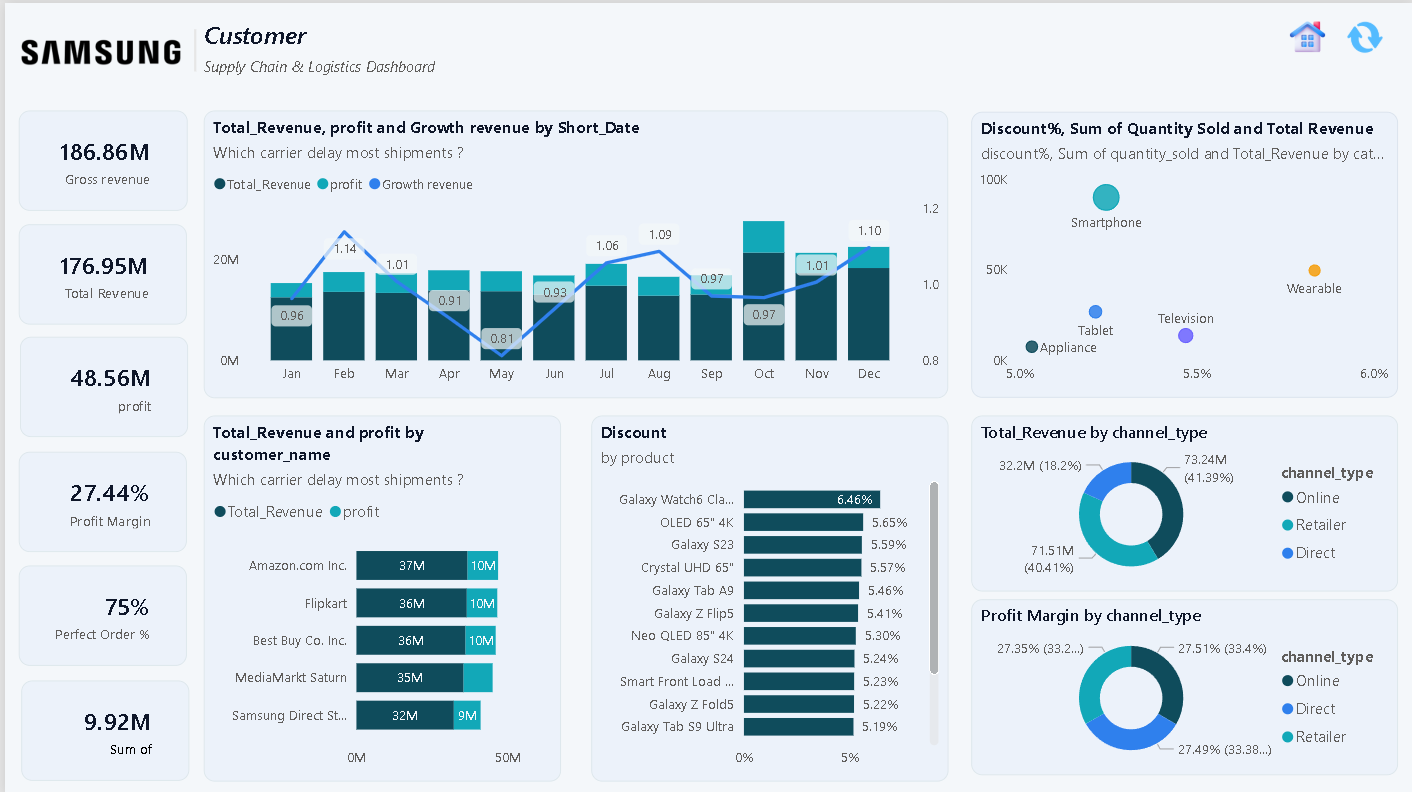

Layout of this report page (visuals, bound fields, positions):
{"tool":"powerbi","page":{"name":"Customer","canvas":[1280,720],"ordinal":5},"visuals":[{"type":"shape","title":"Customer","box":[180.2,14,220.9,57],"z":0},{"type":"shape","box":[164,24.4,18.6,38.4],"z":1000},{"type":"image","box":[3.5,20.9,160.5,47.7],"z":2000},{"type":"cardVisual","fields":{"Data":["MeasuresTable.Total_Revenue"]},"box":[12.2,201.2,152.4,91.5],"z":3000},{"type":"cardVisual","fields":{"Data":["MeasuresTable.profit"]},"box":[13.7,303.9,153,91],"z":4000},{"type":"cardVisual","fields":{"Data":["MeasuresTable.Profit Margin"]},"box":[12.8,408.3,153,91.5],"z":5000},{"type":"cardVisual","fields":{"Data":["MeasuresTable.Perfect_Order %"]},"box":[12,511.5,153,91],"z":6000},{"type":"cardVisual","fields":{"Data":["Sum(fact_sales.gross_revenue)"]},"box":[12.2,97.6,153.7,91.5],"z":7000},{"type":"cardVisual","fields":{"Data":["Sum(fact_sales.discount_amount)"]},"box":[14.6,615.9,152.4,91.5],"z":8000},{"type":"donutChart","fields":{"Category":["dim_customer.channel_type"],"Y":["MeasuresTable.Total_Revenue"]},"box":[879,375,388.1,160],"z":9000},{"type":"barChart","fields":{"Category":["dim_customer.customer_name"],"Y":["MeasuresTable.Total_Revenue","MeasuresTable.profit"]},"box":[180.3,375,325,333.2],"z":10000},{"type":"lineStackedColumnComboChart","fields":{"Category":["dim_date.Short_Date"],"Y":["MeasuresTable.Total_Revenue","MeasuresTable.profit"],"Y2":["MeasuresTable.Growth revenue"]},"box":[180.3,97.9,677.1,261.5],"z":11000},{"type":"clusteredBarChart","title":"Discount","fields":{"Y":["MeasuresTable.discount%"],"Category":["dim_product.product_name"]},"box":[532.6,375,325,333.2],"z":12000},{"type":"scatterChart","title":"Discount%, Sum of Quantity Sold and Total Revenue","fields":{"X":["MeasuresTable.discount%"],"Y":["Sum(fact_sales.quantity_sold)"],"Series":["dim_product.category"],"Size":["MeasuresTable.Total_Revenue"]},"box":[879,99.1,388.1,260.3],"z":13000},{"type":"donutChart","fields":{"Category":["dim_customer.channel_type"],"Y":["MeasuresTable.Profit Margin"]},"box":[879,542.2,388.1,160],"z":14000},{"type":"image","box":[1162.8,15.1,43,32],"z":15000},{"type":"image","box":[1215.1,15.1,43,32.6],"z":16000}]}

Visuals, with their boxes in screenshot pixels (x1, y1, x2, y2), scaled from the page's 1280x720 canvas onto the 1412x792 screenshot:
"Customer" shape: x1=199 y1=15 x2=442 y2=78
shape: x1=181 y1=27 x2=201 y2=69
image: x1=4 y1=23 x2=181 y2=75
cardVisual - MeasuresTable.Total_Revenue: x1=13 y1=221 x2=182 y2=322
cardVisual - MeasuresTable.profit: x1=15 y1=334 x2=184 y2=434
cardVisual - MeasuresTable.Profit Margin: x1=14 y1=449 x2=183 y2=550
cardVisual - MeasuresTable.Perfect_Order %: x1=13 y1=563 x2=182 y2=663
cardVisual - Sum(fact_sales.gross_revenue): x1=13 y1=107 x2=183 y2=208
cardVisual - Sum(fact_sales.discount_amount): x1=16 y1=677 x2=184 y2=778
donutChart - dim_customer.channel_type x MeasuresTable.Total_Revenue: x1=970 y1=413 x2=1398 y2=588
barChart - dim_customer.customer_name x MeasuresTable.Total_Revenue: x1=199 y1=413 x2=557 y2=779
lineStackedColumnComboChart - dim_date.Short_Date x MeasuresTable.Total_Revenue: x1=199 y1=108 x2=946 y2=395
"Discount" clusteredBarChart: x1=588 y1=413 x2=946 y2=779
"Discount%, Sum of Quantity Sold and Total Revenue" scatterChart: x1=970 y1=109 x2=1398 y2=395
donutChart - dim_customer.channel_type x MeasuresTable.Profit Margin: x1=970 y1=596 x2=1398 y2=772
image: x1=1283 y1=17 x2=1330 y2=52
image: x1=1340 y1=17 x2=1388 y2=52
